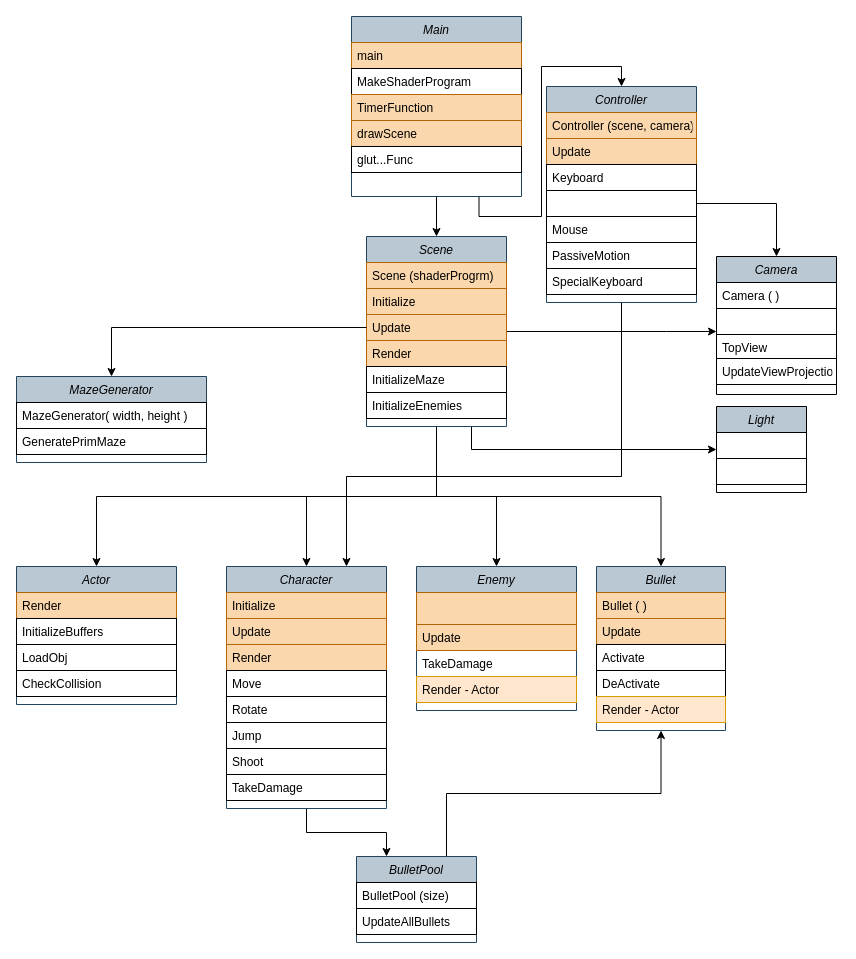
Some shapes in this 856 by 959 pixel diagram are drawn without their labels. The centre of each missing label's shape, as x and y in pixels:
"ApplyLighting" belongs at pixel 761 471.
"Enemy (position)" belongs at pixel 496 608.
"FirstPersonView" belongs at pixel 776 321.
"KeyboardUp" belongs at pixel 621 203.
"Light ( )" belongs at pixel 761 445.
